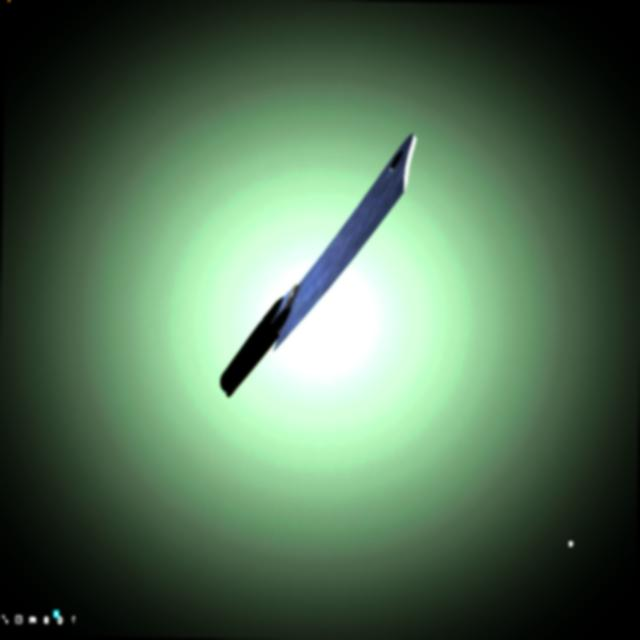cleaver: (216, 118, 418, 399)
